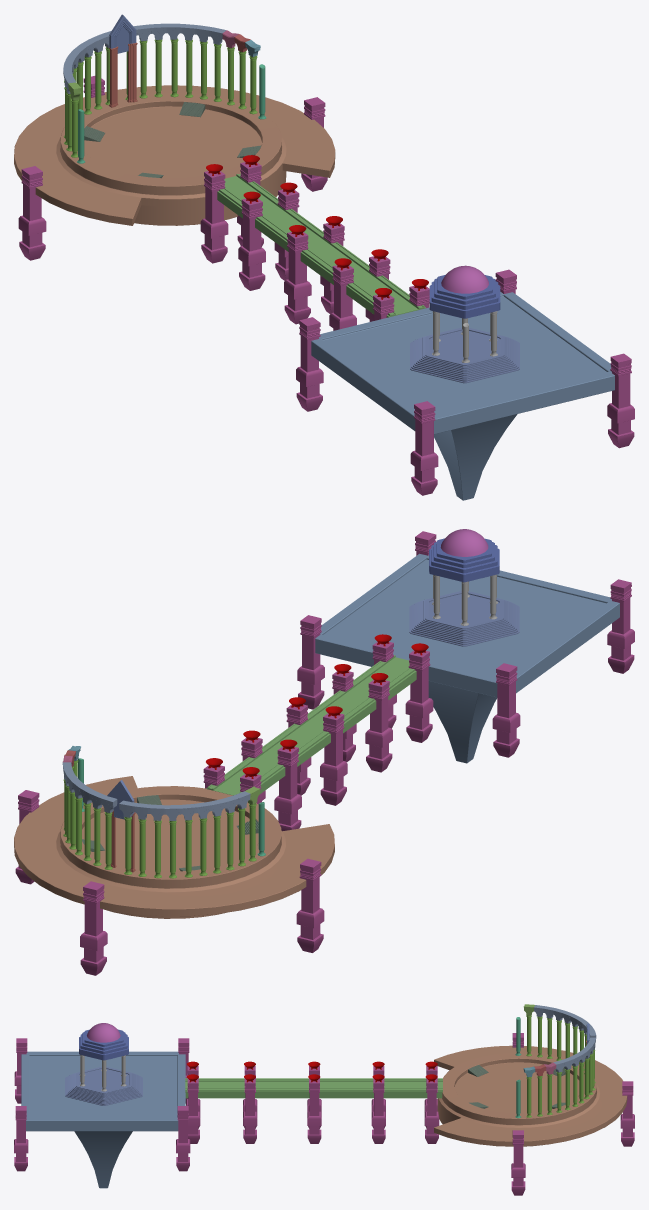
The model's file is Arena.fbx.
3 views of the same model, one above another, from view 1: azimuth 30°, elevation 25°; view 2: azimuth 150°, elevation 25°; view 3: azimuth 270°, elevation 25° (orthographic). The views are drawn at different scales.
Visible parts, largest first — view 1: pCylinder5, pCube47, pCube68, polySurface45, polySurface39, pCylinder30, polySurface29, pCylinder37, pCylinder71, pSphere1, polySurface37, pCube69 (+2 smaller); view 2: pCylinder5, pCube47, pCube68, polySurface39, polySurface45, pCylinder30, polySurface29, pCylinder37, pCylinder71, pSphere1, polySurface41; view 3: pCylinder5, pCube47, pCube68, polySurface45, polySurface39, pCylinder30, polySurface29, pCylinder37, pCylinder71, pSphere1, polySurface41, pCylinder70 (+1 smaller).
Part boxes in pixels (x1,y1,x2,y2): pCylinder5: (14, 85, 335, 225); pCube47: (311, 292, 614, 500); pCube68: (18, 76, 634, 495); polySurface45: (217, 173, 425, 317); polySurface39: (64, 38, 257, 157); pCylinder30: (410, 327, 519, 383); polySurface29: (63, 23, 226, 93); pCylinder37: (429, 274, 500, 318); pCylinder71: (206, 155, 428, 299); pSphere1: (441, 265, 488, 293); polySurface37: (109, 42, 137, 107); pCube69: (84, 102, 261, 178); pCylinder5: (14, 776, 334, 918); pCube47: (315, 553, 619, 763); pCube68: (15, 531, 634, 975); polySurface39: (63, 760, 256, 878); polySurface45: (206, 655, 416, 795); pCylinder30: (409, 591, 519, 646); polySurface29: (62, 762, 250, 820); pCylinder37: (429, 538, 499, 582); pCylinder71: (206, 634, 428, 778); pSphere1: (440, 529, 488, 556); polySurface41: (432, 575, 469, 625); pCylinder5: (434, 1045, 627, 1146); pCube47: (21, 1051, 185, 1188); pCube68: (14, 1033, 634, 1195); polySurface45: (185, 1078, 442, 1098); polySurface39: (526, 1015, 595, 1117); pCylinder30: (65, 1066, 142, 1105); polySurface29: (534, 1005, 596, 1072); pCylinder37: (79, 1029, 128, 1060); pCylinder71: (187, 1061, 437, 1082); pSphere1: (87, 1023, 120, 1042); polySurface41: (79, 1055, 126, 1091); pCylinder70: (515, 1017, 521, 1118).
Size of the model in its own units: 567 by 417 by 1440.
